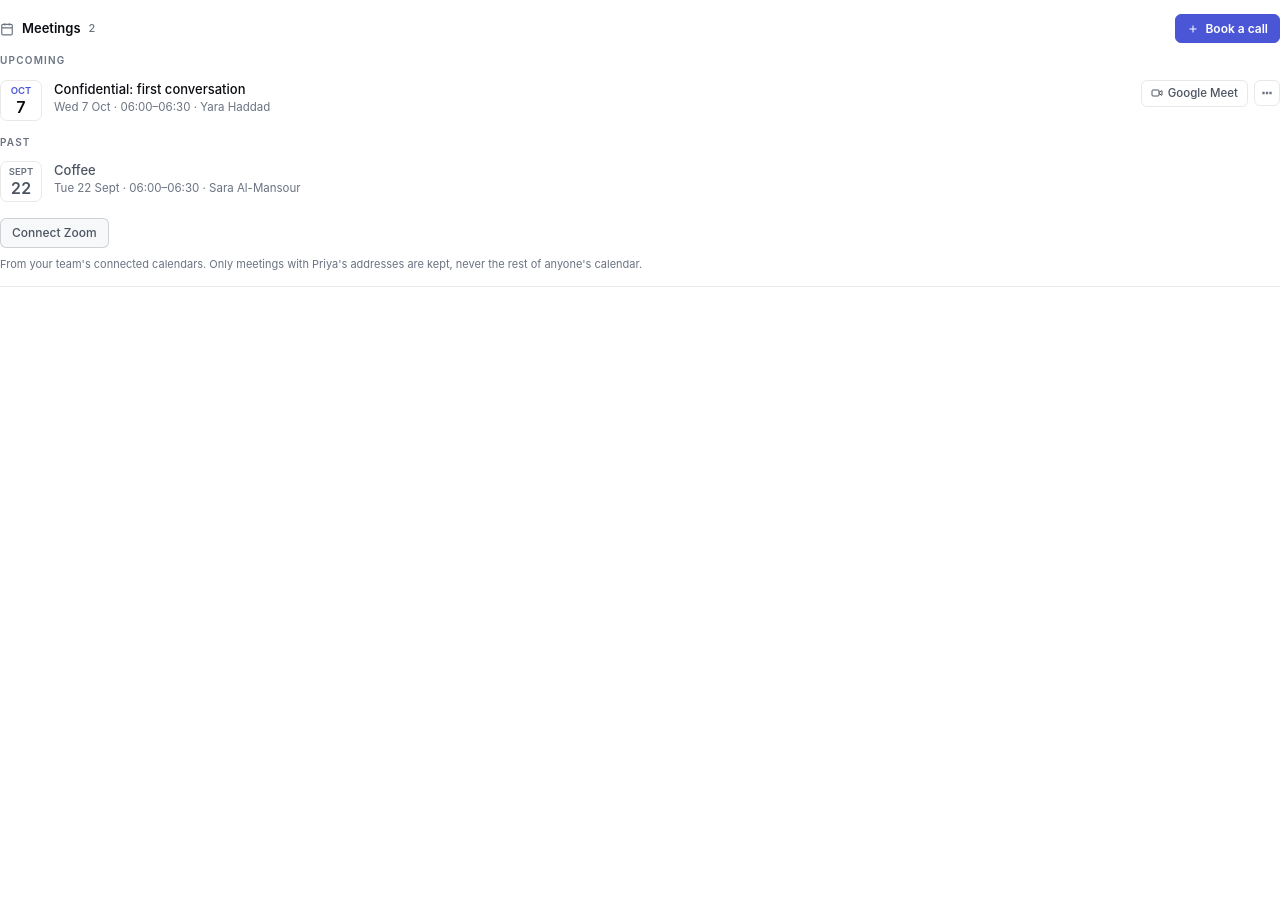
Test: MeetingsSection › books a time picked on the consultant's calendar
Click the button "Book a call".
click(1228, 29)  # box [1175,14,1279,43]
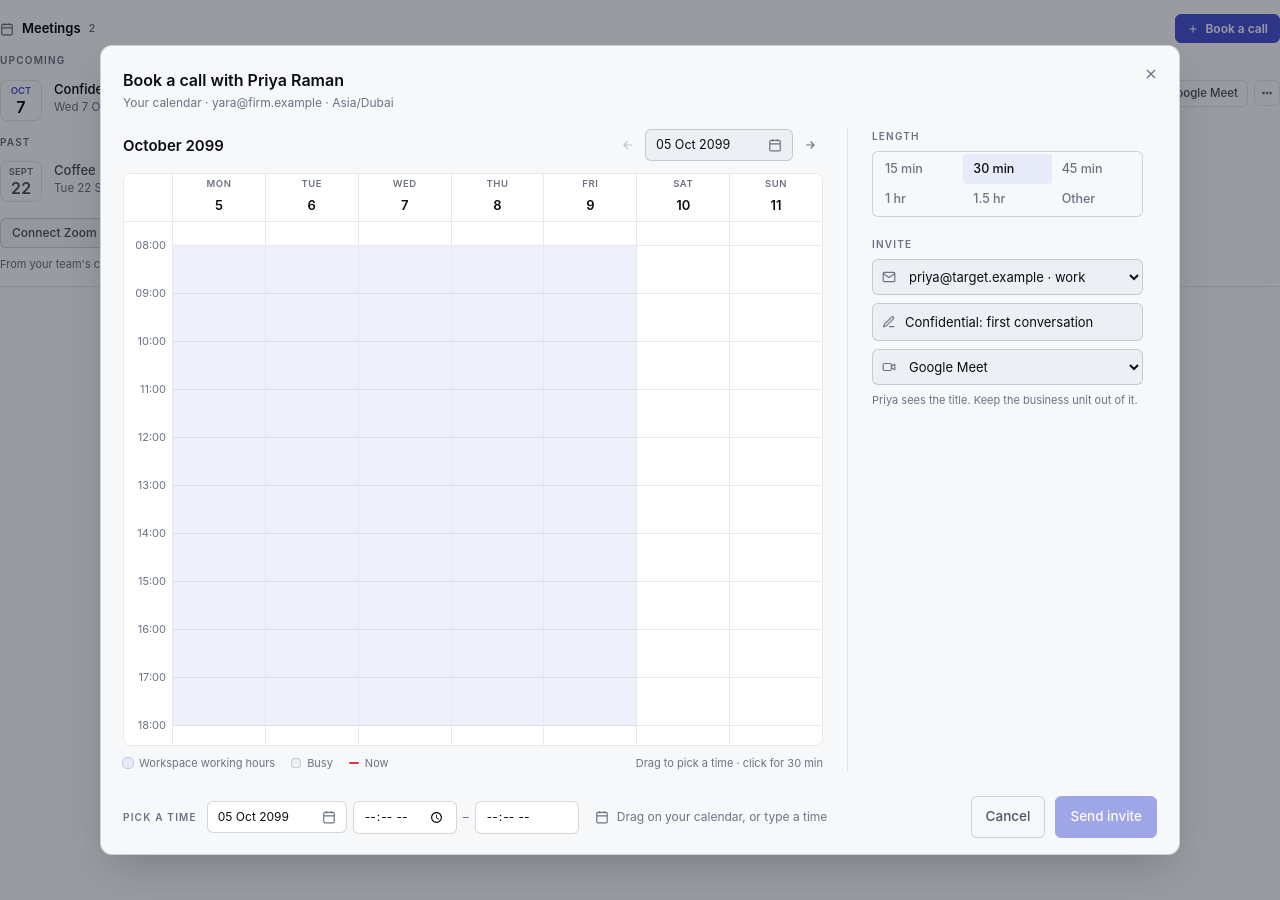
expect the element named "Your week" is shown: met, box [123,173,823,746]
expect the button "Send invite" is disabled: met, box [1055,796,1157,838]
Type "10:30" into the time field named "Call starts".
click(405, 817); type("10:30")  # box [353,801,457,834]
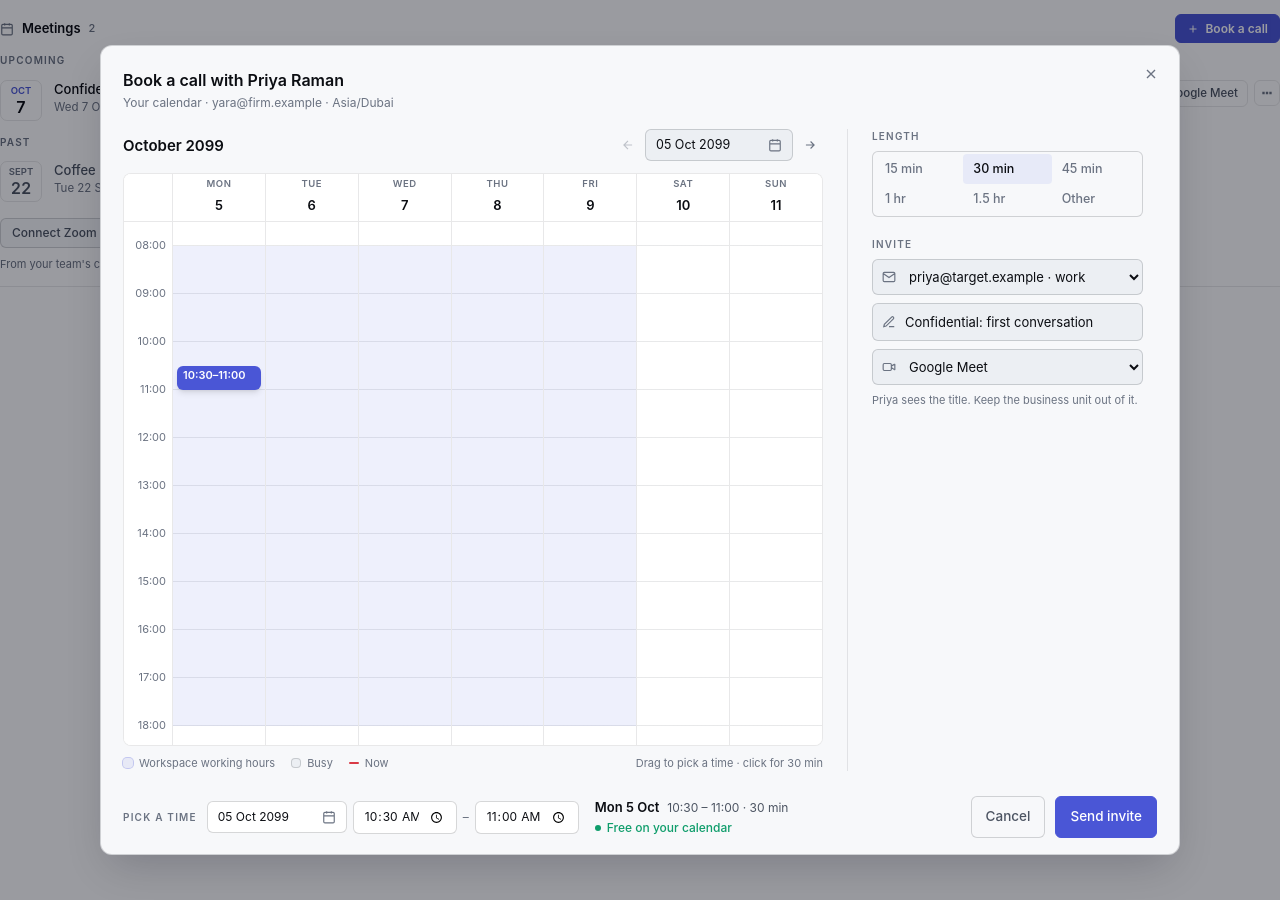
expect the text "Mon 5 Oct" is shown: met, box [595,797,659,817]
expect the text "10:30 – 11:00 · 30 min" is shown: met, box [667,799,788,817]
Click the button "Send invite".
click(1106, 817)  # box [1055,796,1157,838]
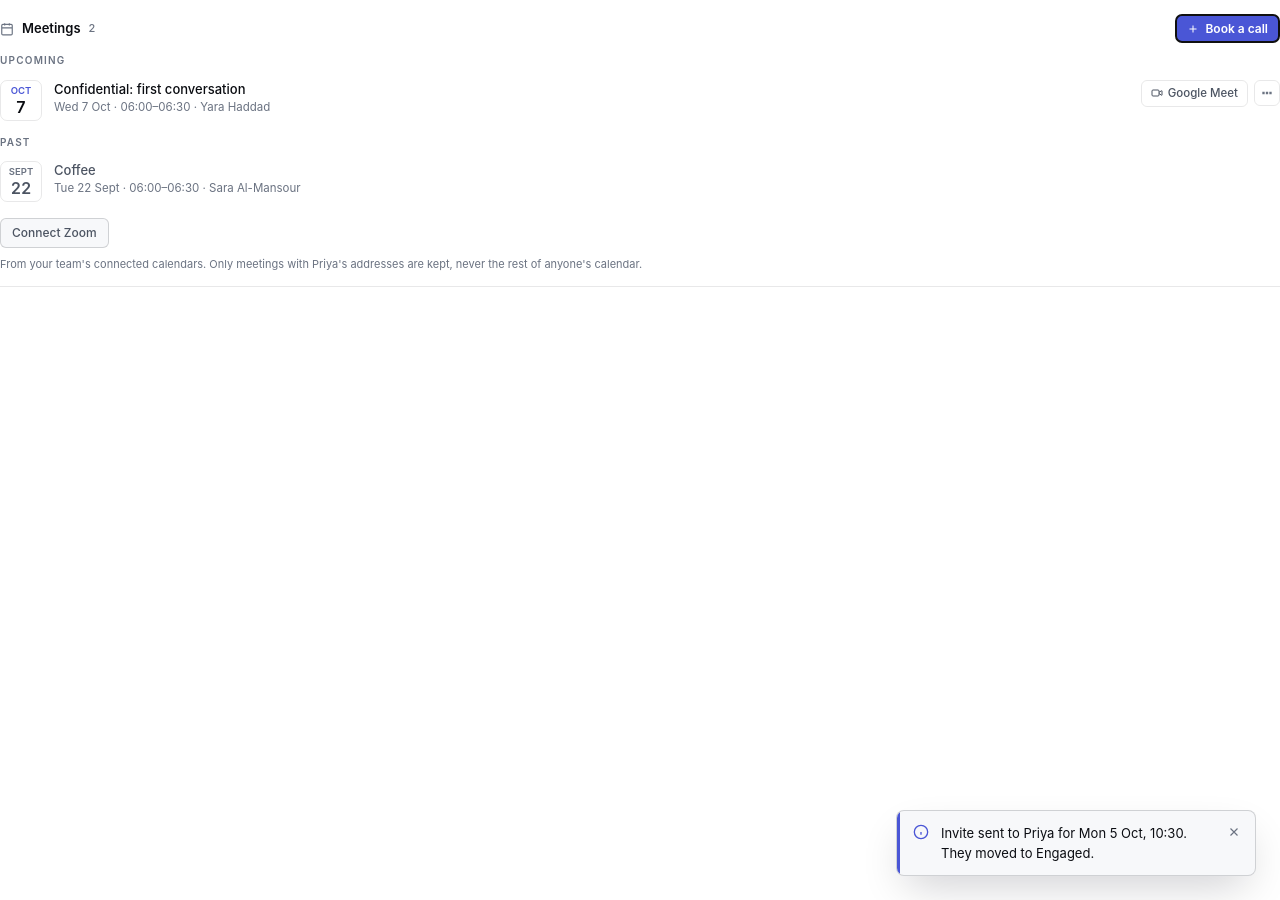
expect the text "Invite sent to Priya for Mon 5 Oct, 10:30. They moved to Engaged." is shown: met, box [941,823,1211,863]
